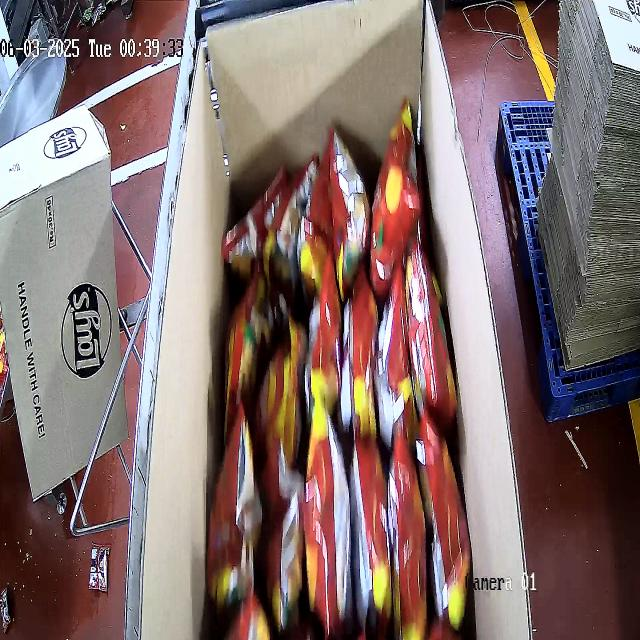MASALA: (205, 103, 474, 638)
